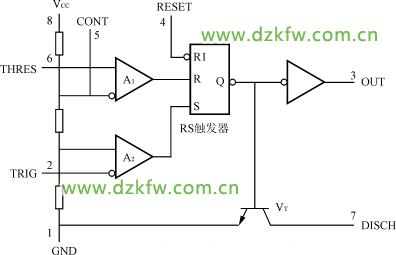bistable flip-flop: (190, 44, 229, 114)
comparator1: (114, 56, 154, 103), (116, 135, 154, 179)
discharge circuit: (237, 207, 272, 226)
output circuit: (282, 59, 326, 104)
reset circuit: (154, 1, 194, 14)
resistance: (55, 32, 63, 55), (55, 109, 63, 132), (55, 186, 63, 209)
